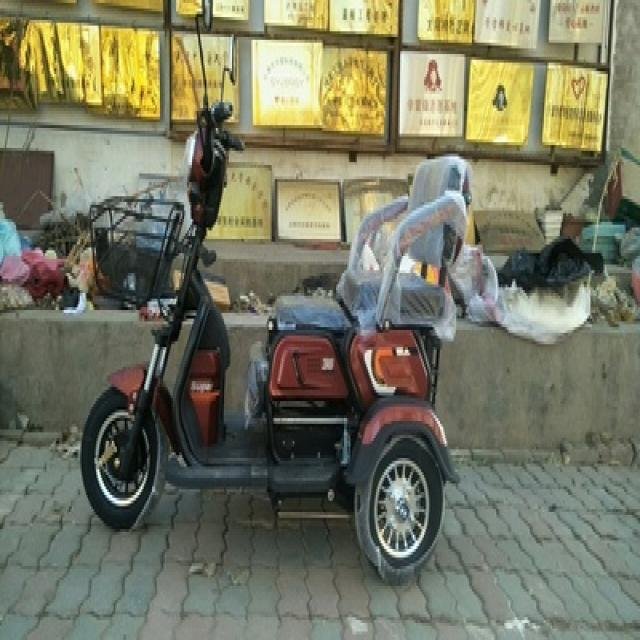tricycle: (75, 3, 474, 580)
